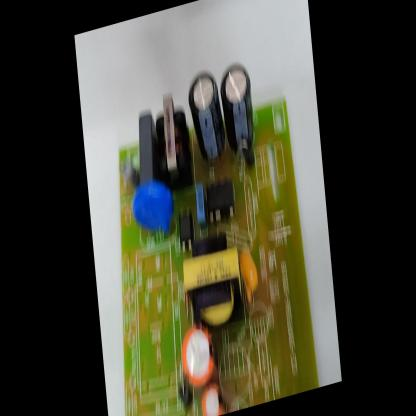Cap1: (176, 315, 220, 395)
Cap2: (196, 378, 230, 416)
Cap3: (185, 62, 226, 168)
Cap4: (216, 57, 259, 162)
MOSFET: (204, 171, 238, 228)
Mov: (128, 172, 178, 245)
Transformer: (179, 224, 246, 328), (149, 84, 192, 177)
